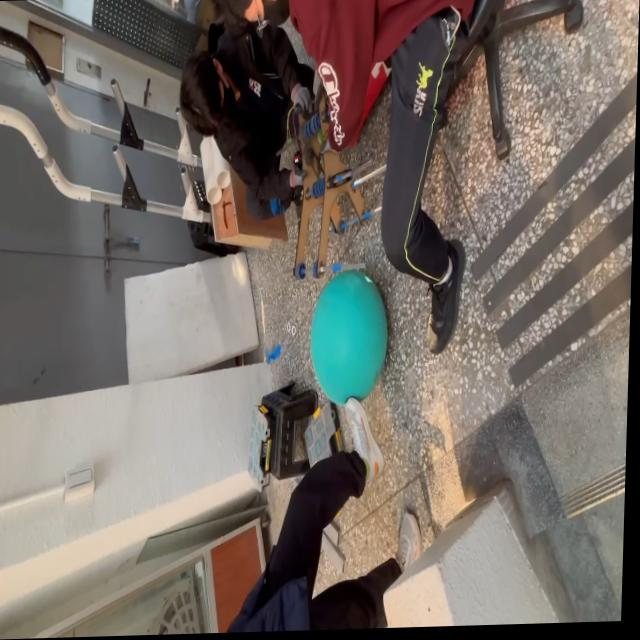ALGAE: (307, 267, 391, 409)
